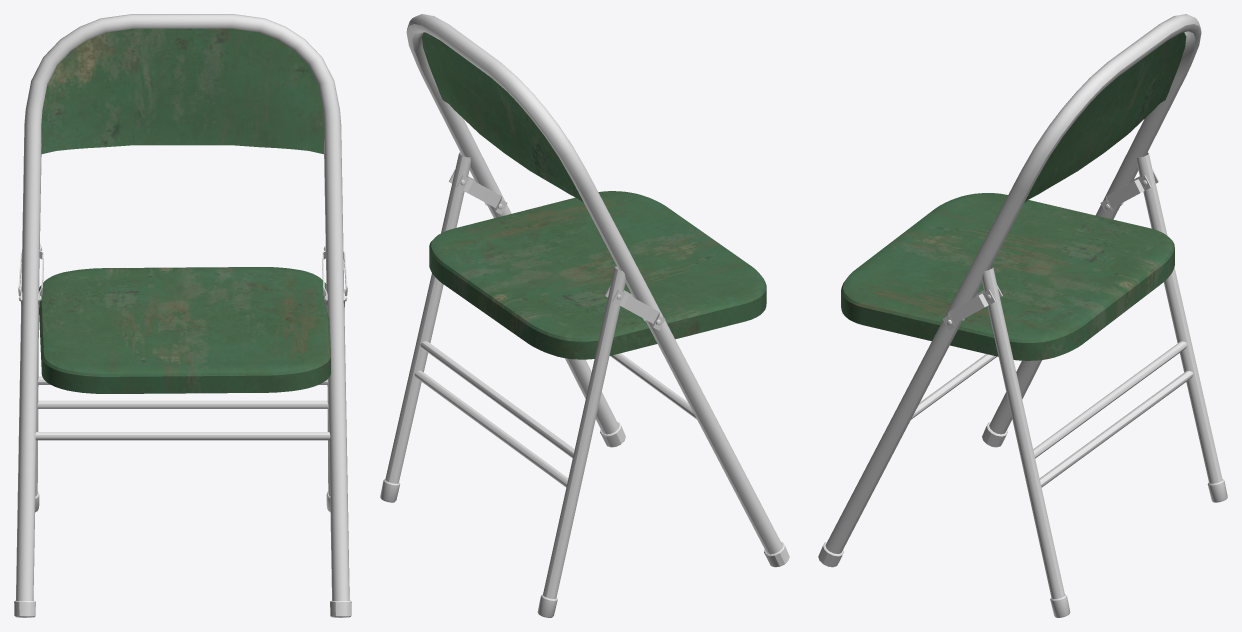
Rendered from ChairA.fbx.
3 renders of one model, left to right at view 1: azimuth 30°, elevation 25°; view 2: azimuth 150°, elevation 25°; view 3: azimuth 270°, elevation 25°, orthographic. The views are drawn at different scales.
Parts seen in each view (by area): view 1: ChairA; view 2: ChairA; view 3: ChairA.
Part boxes in pixels (x1,y1,x2,y2): ChairA: [14, 14, 351, 617]; ChairA: [380, 14, 789, 617]; ChairA: [818, 14, 1227, 617].
Bounding box in the file's own units: 0.8411 × 1.12 × 0.8007.
